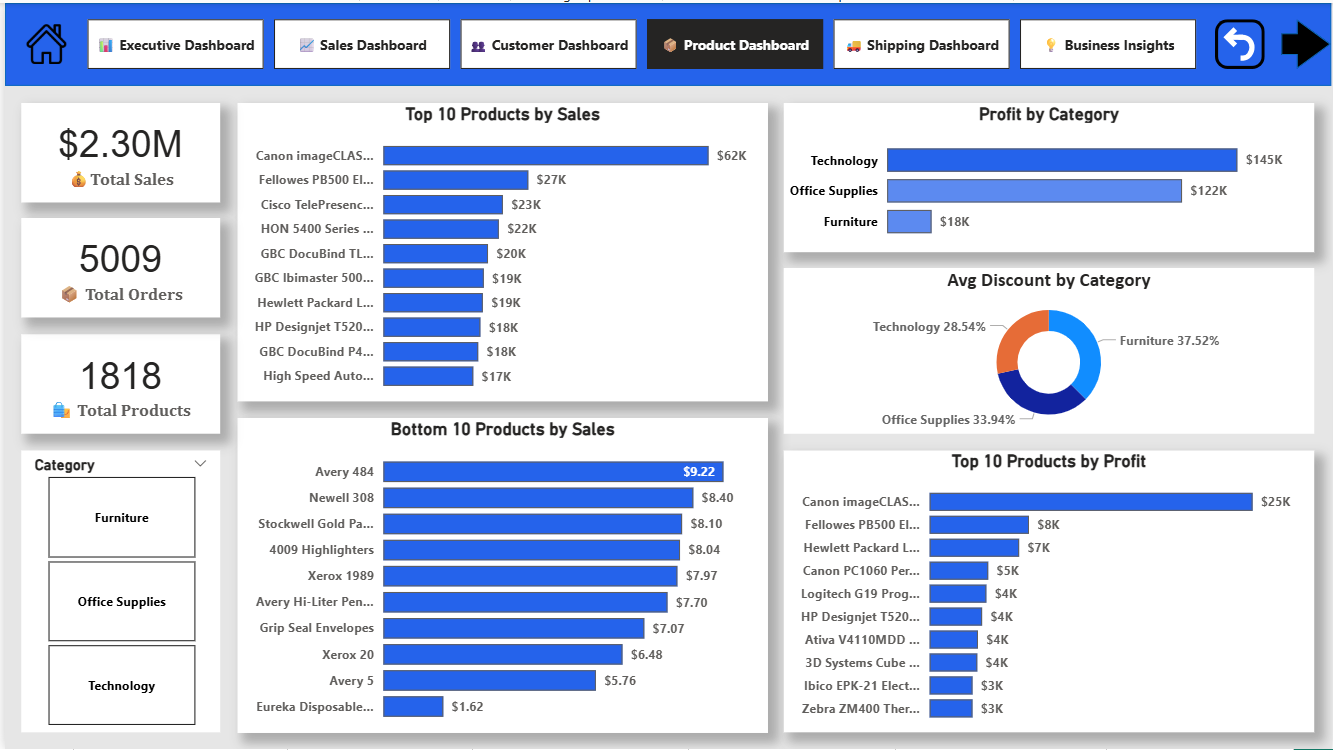

The page's visual inventory and layout, read from the dashboard file:
{"tool":"powerbi","page":{"name":"📦 Product Dashboard","canvas":[1280,720],"ordinal":4},"visuals":[{"type":"shape","box":[0,0,1280,80],"z":0},{"type":"pageNavigator","box":[80,16,1072,48],"z":1000},{"type":"shape","box":[1232,16,48,48],"z":2000},{"type":"clusteredBarChart","title":"Top 10 Products by Sales","fields":{"Category":["DIm_Product.product_name"],"Y":["KPI_Measures.Total Sales"]},"box":[224,96,512,288],"z":3000},{"type":"clusteredBarChart","title":"Bottom 10 Products by Sales","fields":{"Category":["DIm_Product.product_name"],"Y":["KPI_Measures.Total Sales"]},"box":[224,400,512,304],"z":4000},{"type":"clusteredBarChart","title":"Profit by Category","fields":{"Category":["DIm_Product.category"],"Y":["KPI_Measures.Total Profit"]},"box":[752,96,512,144],"z":5000},{"type":"card","fields":{"Values":["Count(DIm_Product.product_name)"]},"box":[16,320,192,96],"z":6000},{"type":"card","fields":{"Values":["KPI_Measures.Total Sales"]},"box":[16,96,192,96],"z":7000},{"type":"card","fields":{"Values":["KPI_Measures.Orders"]},"box":[16,208,192,96],"z":8000},{"type":"slicer","fields":{"Values":["DIm_Product.category"]},"box":[16,432,192,272],"z":9000},{"type":"donutChart","title":"Avg Discount by Category","fields":{"Y":["KPI_Measures.Average Discount"],"Category":["DIm_Product.category"]},"box":[752,256,512,160],"z":10000},{"type":"clusteredBarChart","title":"Top 10 Products by Profit","fields":{"Category":["DIm_Product.product_name"],"Y":["KPI_Measures.Total Profit"]},"box":[752,432,512,272],"z":11000},{"type":"image","box":[0,16,80,48],"z":12000},{"type":"actionButton","box":[1168,16,48,48],"z":12001}]}

Visuals, with their boxes in screenshot pixels (x1, y1, x2, y2), scaled from the page's 1280x720 canvas onto the 1333x750 screenshot:
shape: detection(0, 0, 1332, 83)
pageNavigator: detection(83, 17, 1200, 67)
shape: detection(1283, 17, 1332, 67)
"Top 10 Products by Sales" clusteredBarChart: detection(233, 100, 766, 400)
"Bottom 10 Products by Sales" clusteredBarChart: detection(233, 417, 766, 733)
"Profit by Category" clusteredBarChart: detection(783, 100, 1316, 250)
card - Count(DIm_Product.product_name): detection(17, 333, 217, 433)
card - KPI_Measures.Total Sales: detection(17, 100, 217, 200)
card - KPI_Measures.Orders: detection(17, 217, 217, 317)
slicer - DIm_Product.category: detection(17, 450, 217, 733)
"Avg Discount by Category" donutChart: detection(783, 267, 1316, 433)
"Top 10 Products by Profit" clusteredBarChart: detection(783, 450, 1316, 733)
image: detection(0, 17, 83, 67)
actionButton: detection(1216, 17, 1266, 67)
